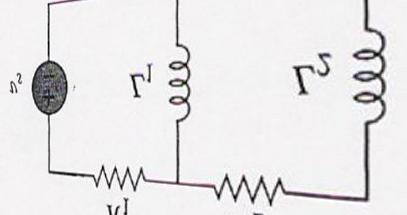resistor: (198, 171, 294, 205), (85, 159, 152, 189)
